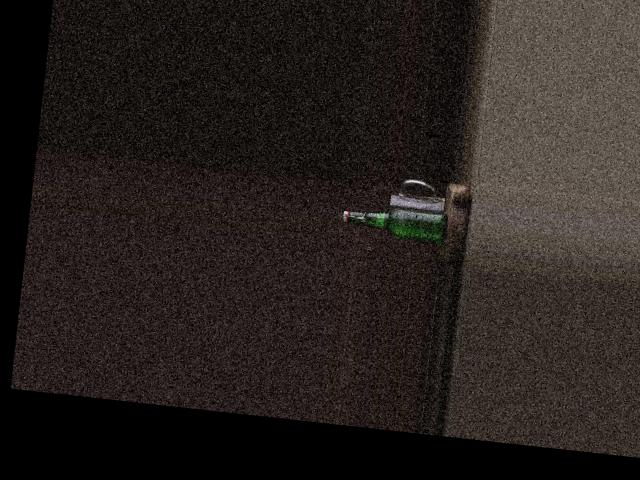beer: (341, 201, 448, 242)
